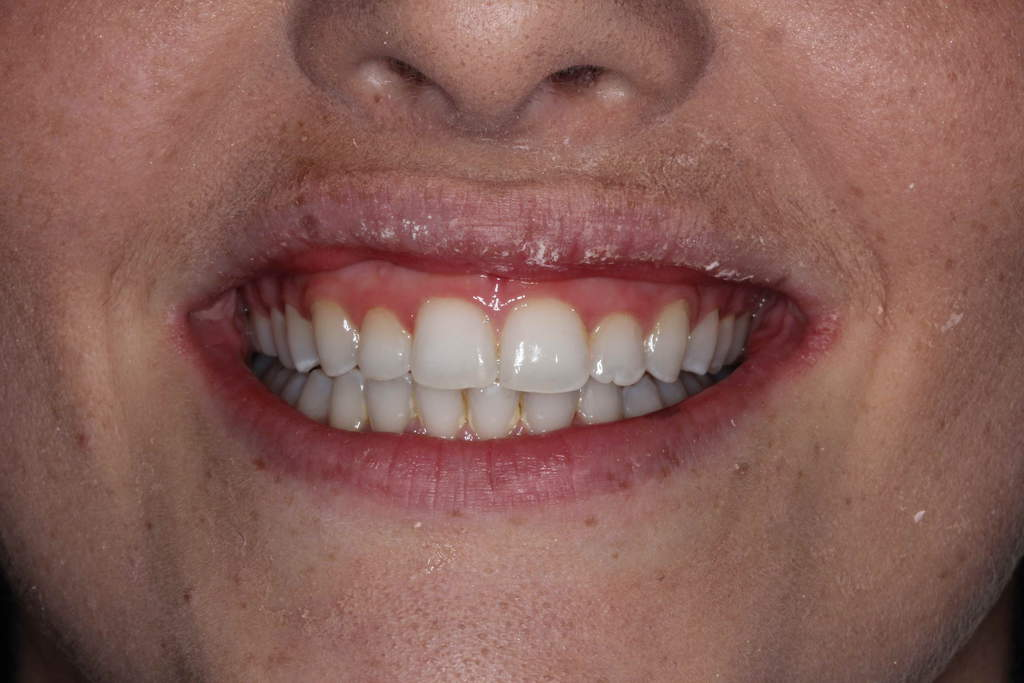LLCI_mdecay: (520, 387, 577, 432)
LLC_healthy: (623, 387, 662, 414)
LLLI_mdecay: (580, 385, 620, 422)
LR1BC_mdecay: (332, 376, 362, 428)
LR2BC_healthy: (299, 375, 330, 420)
LRCI_mdecay: (463, 388, 520, 438)
LRC_mdecay: (362, 382, 412, 431)
LRLI_mdecay: (415, 391, 464, 438)
UL1BC_mdecay: (687, 313, 716, 373)
UL2BC_healthy: (718, 315, 730, 371)
ULCI_healthy: (496, 302, 588, 392)
ULC_mdecay: (649, 303, 684, 382)
ULLI_mdecay: (590, 318, 646, 384)
UR1BC_mdecay: (287, 308, 314, 373)
UR1M_healthy: (255, 318, 272, 355)
UR2BC_healthy: (273, 308, 286, 362)
URCI_healthy: (411, 300, 494, 388)
URC_healthy: (312, 299, 357, 376)
URLI_healthy: (358, 307, 410, 378)
